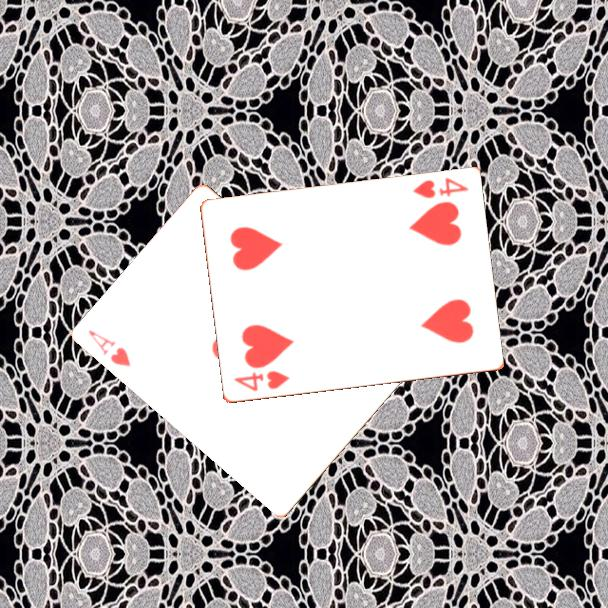h01: (85, 326, 134, 370)
h04: (230, 368, 292, 395), (409, 175, 471, 202)
